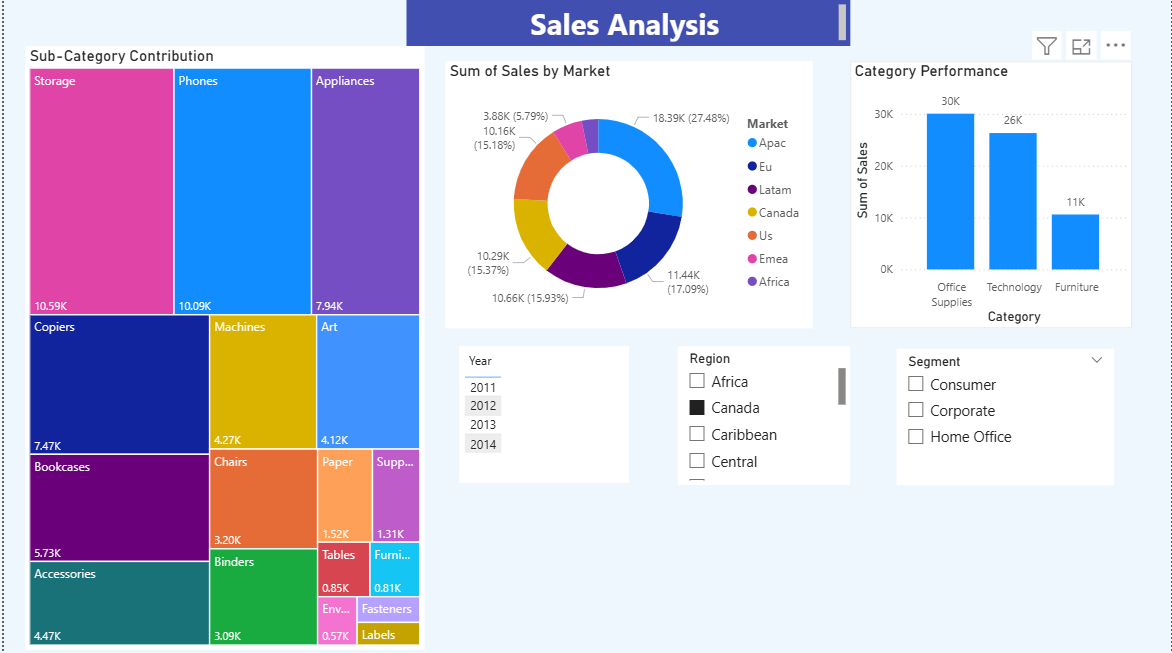

What the dashboard file says about the page in this screenshot:
{"tool":"powerbi","page":{"name":"Sales Analysis","canvas":[1280,720],"ordinal":1},"visuals":[{"type":"clusteredColumnChart","title":"Category Performance","fields":{"Y":["Sum(cleaned_superstore.Sales)"],"Category":["cleaned_superstore.Category"]},"box":[927.4,67.1,308.2,293.2],"z":0},{"type":"treemap","title":"Sub-Category Contribution","fields":{"Values":["Sum(cleaned_superstore.Sales)"],"Group":["cleaned_superstore.Sub-Category"]},"box":[22.8,51.3,437.6,661.4],"z":1000},{"type":"donutChart","fields":{"Category":["cleaned_superstore.Market"],"Y":["Sum(cleaned_superstore.Sales)"]},"box":[483.6,67.1,402.7,293.2],"z":2000},{"type":"textbox","box":[441.1,0,486.3,50.7],"z":3000},{"type":"slicer","fields":{"Values":["cleaned_superstore.Segment"]},"box":[978.1,382.2,238.4,149.3],"z":3001},{"type":"slicer","fields":{"Values":["cleaned_superstore.Region"]},"box":[738.4,379.5,189,152.1],"z":3003},{"type":"tableEx","fields":{"Values":["cleaned_superstore.Order Date.Variation.Date Hierarchy.Year"]},"box":[498.6,379.5,186.3,149.3],"z":3004}]}

Visuals, with their boxes on the page's 1280x720 design canvas (x1, y1, x2, y2). These are canvas units, not pixel positions in the 1172x653 screenshot, which may show the page scaled, cropped or inside an application window:
"Category Performance" clusteredColumnChart: Rect(927, 67, 1236, 360)
"Sub-Category Contribution" treemap: Rect(23, 51, 460, 713)
donutChart - cleaned_superstore.Market x Sum(cleaned_superstore.Sales): Rect(484, 67, 886, 360)
textbox: Rect(441, 0, 927, 51)
slicer - cleaned_superstore.Segment: Rect(978, 382, 1216, 532)
slicer - cleaned_superstore.Region: Rect(738, 380, 927, 532)
tableEx - cleaned_superstore.Order Date.Variation.Date Hierarchy.Year: Rect(499, 380, 685, 529)
